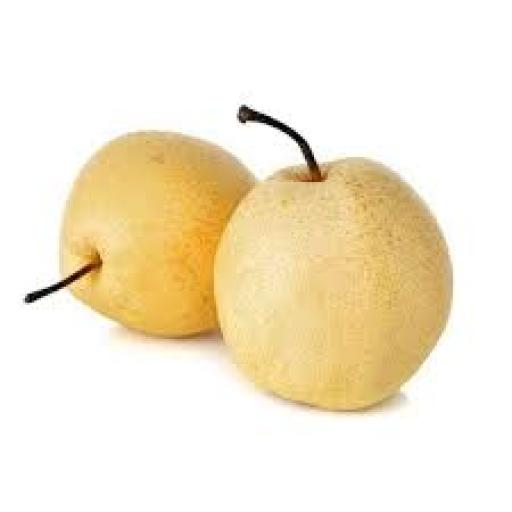Pear: (217, 107, 452, 409), (28, 132, 254, 336)
